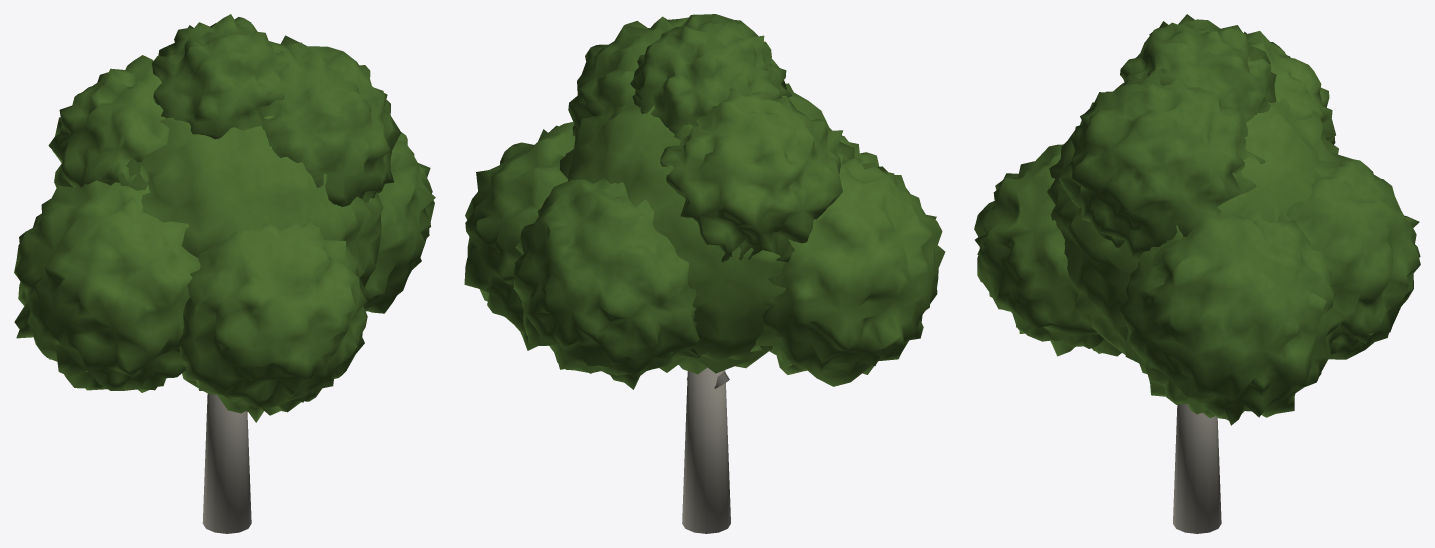
Rendered from beech.glb.
3 views of the same model, side by side, from view 1: azimuth 30°, elevation 25°; view 2: azimuth 150°, elevation 25°; view 3: azimuth 270°, elevation 25° (orthographic).
Visible parts, largest first — view 1: beech; view 2: beech; view 3: beech.
Part boxes in pixels (box(x1,y1,x2,y2)): beech: box(14, 14, 435, 533); beech: box(464, 14, 945, 533); beech: box(974, 14, 1420, 533).
Bounding box in the file's own units: 7.08 × 8.13 × 6.6.
1 material, 1 textured.
